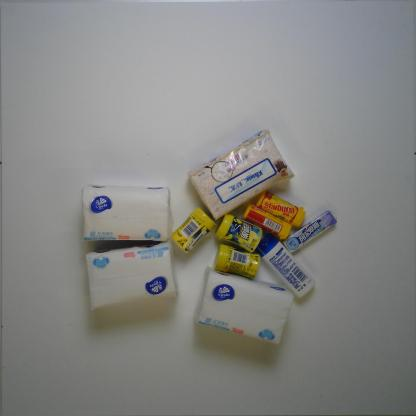Candy: (282, 209, 339, 255), (254, 189, 306, 228), (241, 203, 292, 240)
Gum: (170, 207, 218, 254), (212, 212, 263, 254), (212, 243, 262, 280)
Personal Hygiene: (255, 232, 316, 299)
Tissue: (187, 126, 296, 221), (194, 263, 295, 347), (84, 240, 179, 313), (80, 184, 173, 245)
